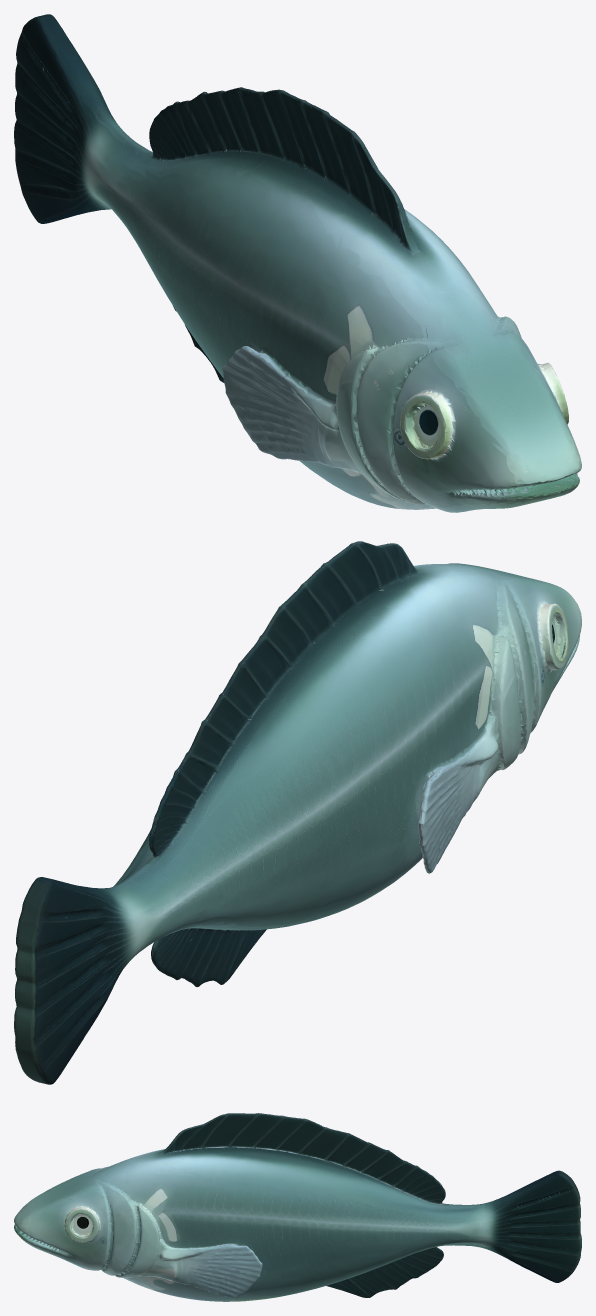
The model's file is fish_ghost_sole.glb.
The picture shows the model from 3 angles, top to bottom: view 1: azimuth 30°, elevation 25°; view 2: azimuth 150°, elevation 25°; view 3: azimuth 270°, elevation 25°; orthographic projection. The views are drawn at different scales.
Bounding box in the file's own units: 0.4153 × 0.681 × 1.9.
1 material, 1 textured.
